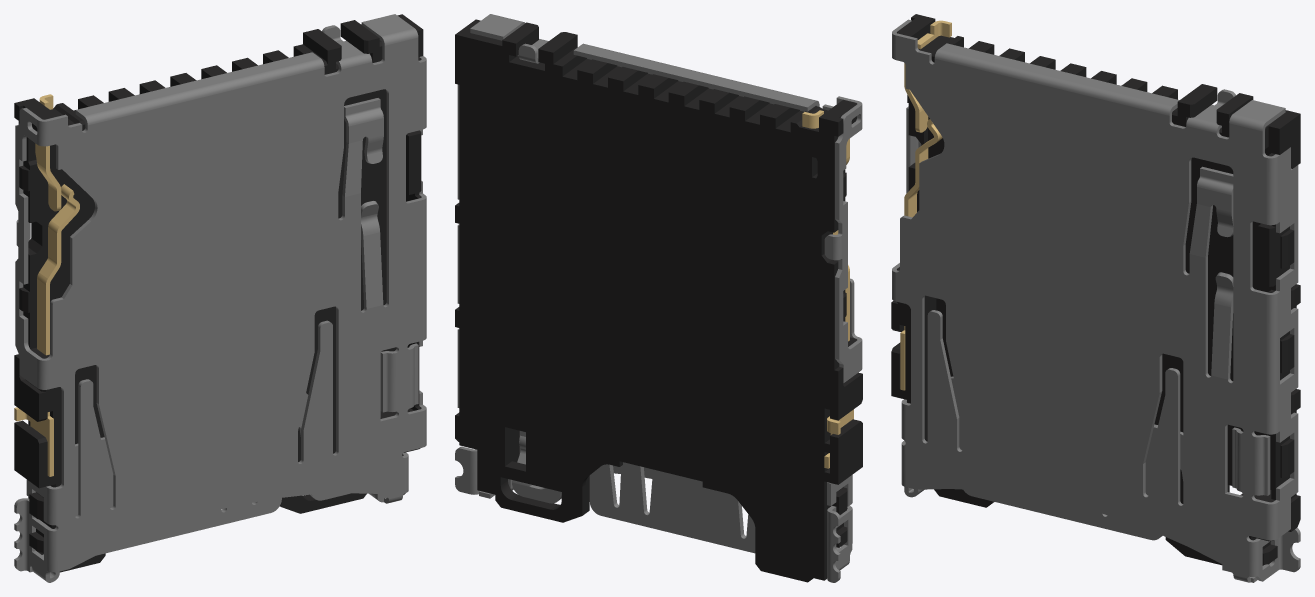
File: Connector_Card_microSD_HC_Hirose_DM3AT-SF-PEJM5.glb
3 renders of one model, left to right at view 1: azimuth 30°, elevation 25°; view 2: azimuth 150°, elevation 25°; view 3: azimuth 330°, elevation 25°, orthographic.
Bounding box in the file's own units: 13.85 × 16.15 × 1.68.
